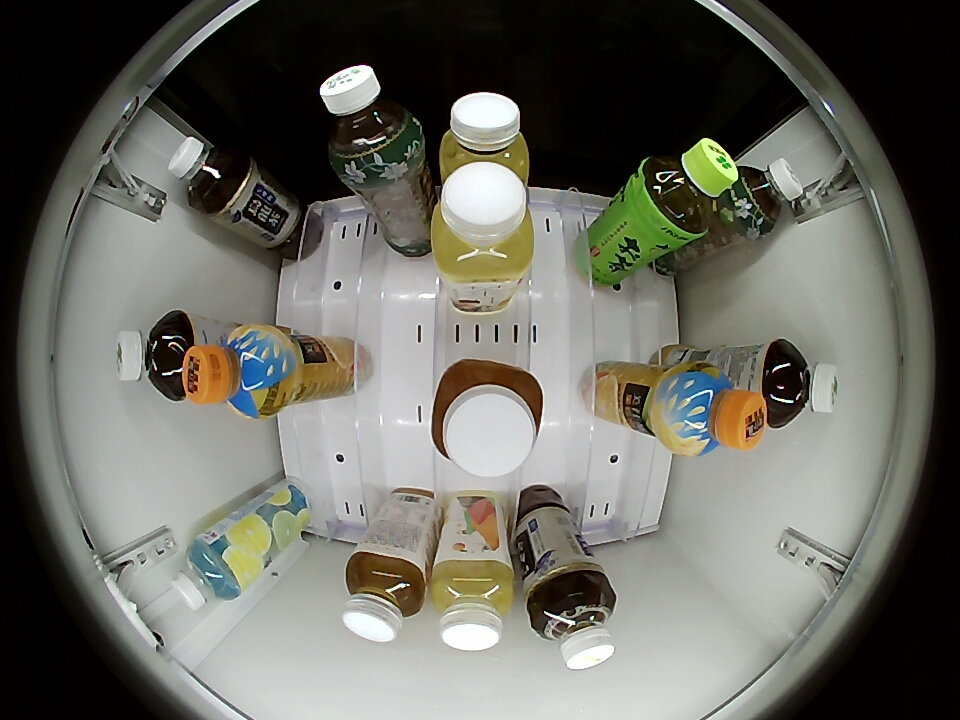chapai: (431, 359, 544, 477), (342, 549, 427, 643)
chapai2: (431, 162, 535, 287), (438, 92, 530, 186), (431, 556, 515, 651)
damaicha: (114, 311, 193, 400), (762, 340, 840, 426)
guolicheng: (656, 364, 765, 457), (183, 324, 291, 417)
moliqingcha: (320, 64, 424, 176), (726, 158, 804, 236)
qinningshui: (170, 535, 246, 610)
wulongcha: (529, 578, 617, 671), (168, 137, 243, 210)
yitengyuan: (634, 138, 738, 240)
